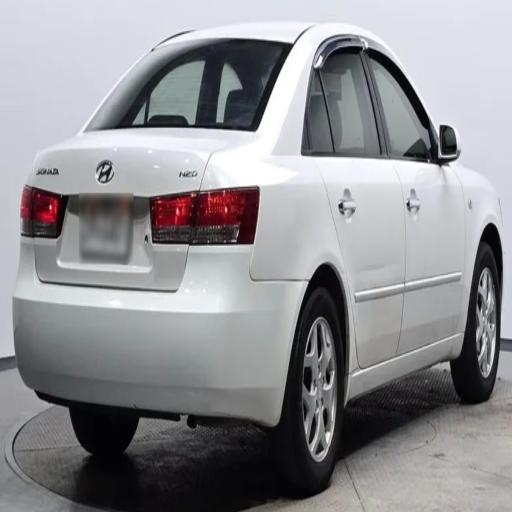normal: (12, 10, 507, 478)
